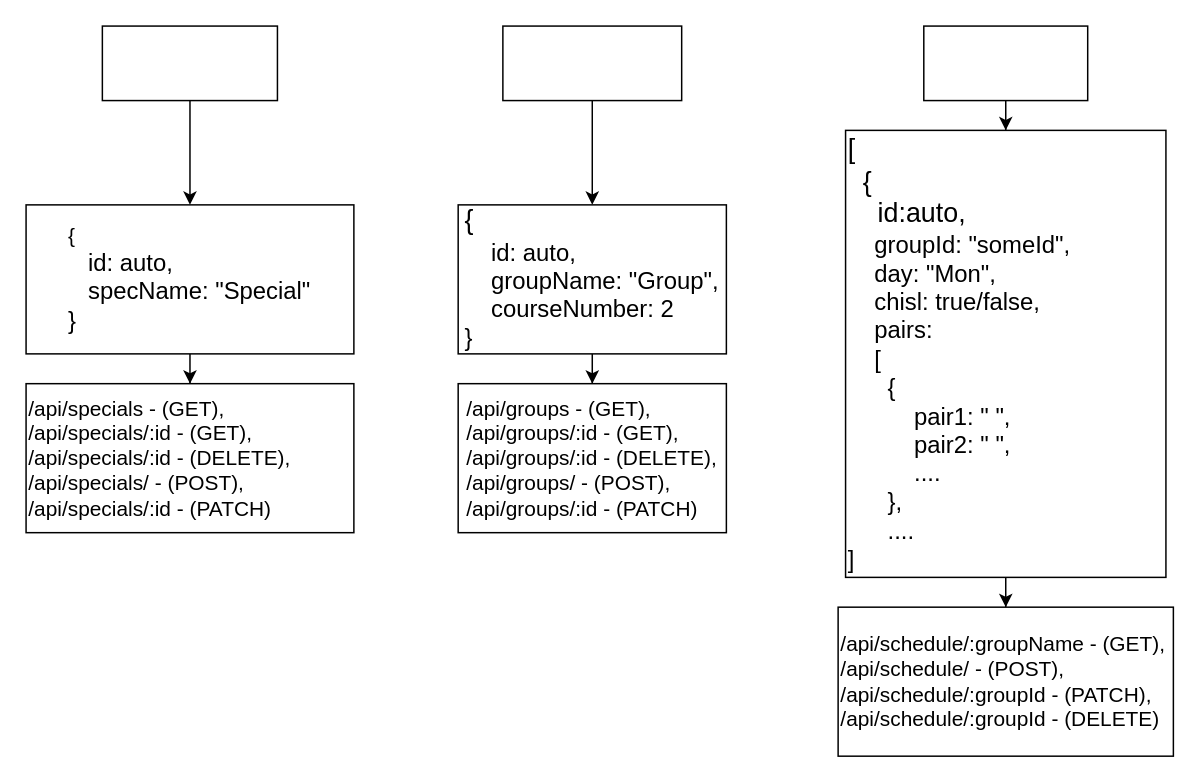
Some shapes in this 1199 by 782 pixel diagram are drawn without their labels. The shapes that lost their labels are listed below. From the top down, each one's centre as x and y in pixels, then its label:
the point at 189,63: Specials
the point at 591,63: Groups
the point at 1005,63: Schedule
